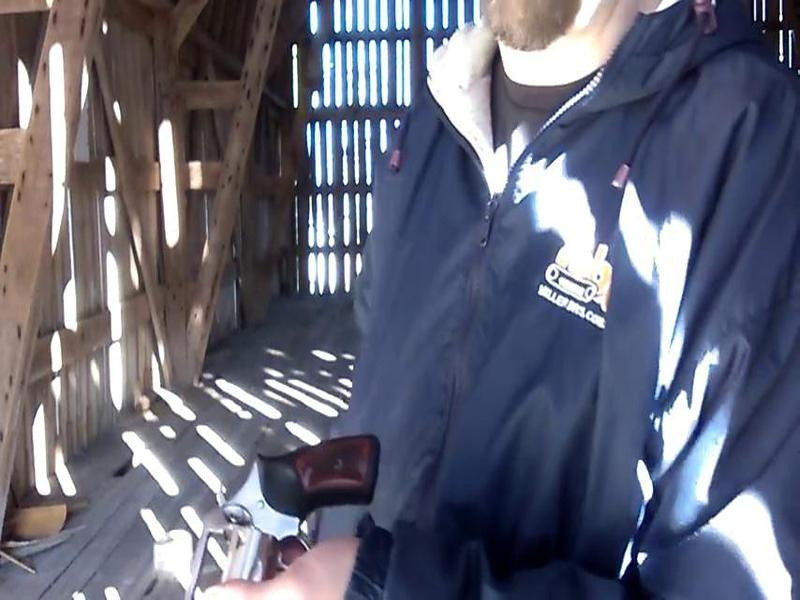Revolver: (146, 434, 382, 600)
